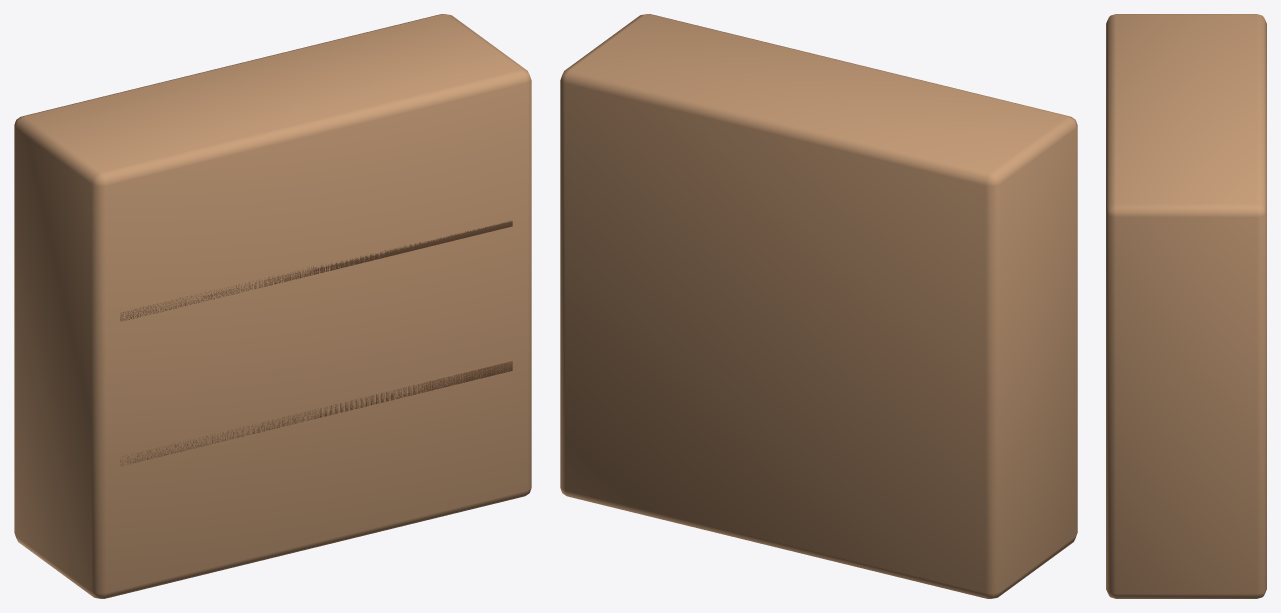
Rendered from Decor_ProjectDisplayShelf.fbx.
3 renders of one model, left to right at view 1: azimuth 30°, elevation 25°; view 2: azimuth 150°, elevation 25°; view 3: azimuth 270°, elevation 25°, orthographic. The views are drawn at different scales.
Parts seen in each view (by area): view 1: Showcase_Frame, Showcase_Tier_1, Showcase_Tier_2; view 2: Showcase_Frame; view 3: Showcase_Frame.
Boxes of the visible parts, x1,y1,x2,y2 form: Showcase_Frame: [14, 14, 531, 598]; Showcase_Tier_1: [120, 361, 512, 465]; Showcase_Tier_2: [120, 221, 512, 321]; Showcase_Frame: [560, 14, 1077, 598]; Showcase_Frame: [1106, 14, 1266, 598].
Size of the model in its own units: 14 by 13 by 4.8.
